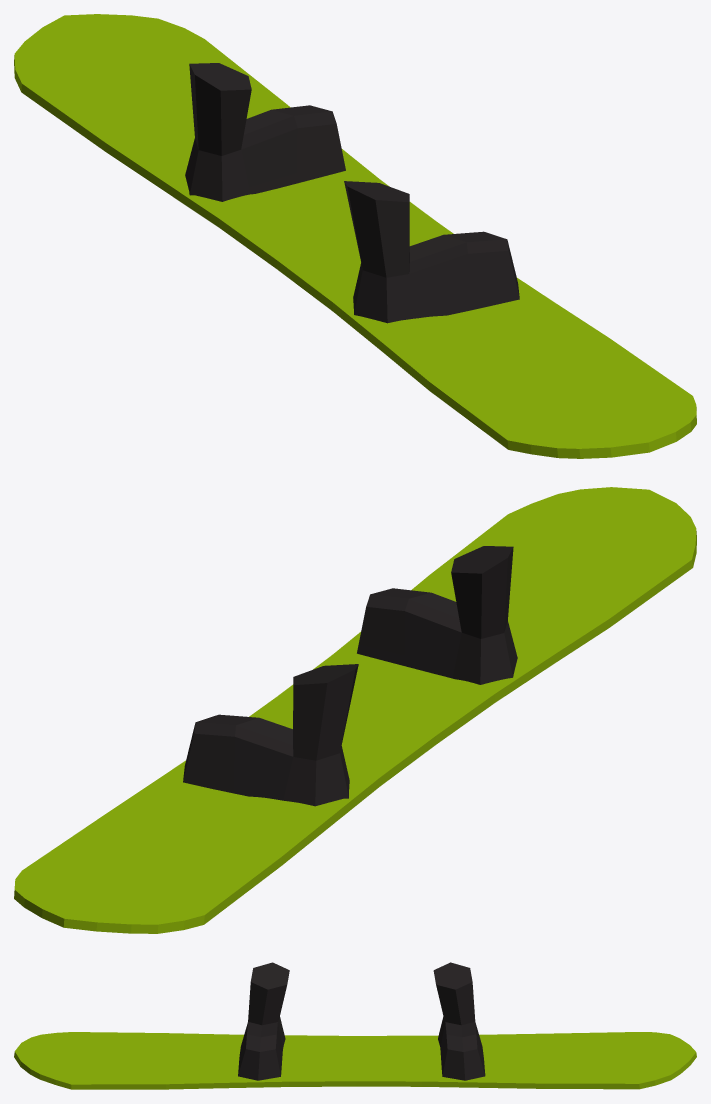
The model's file is Snowboard.fbx.
3 views of the same model, one above another, from view 1: azimuth 30°, elevation 25°; view 2: azimuth 150°, elevation 25°; view 3: azimuth 270°, elevation 25° (orthographic). The views are drawn at different scales.
Visible parts, largest first — view 1: Circle; view 2: Circle; view 3: Circle.
Part boxes in pixels (x1,y1,x2,y2): Circle: (14,14,696,458); Circle: (14,487,696,933); Circle: (14,962,696,1089).
Bounding box in the file's own units: 24.3 × 16.97 × 133.
